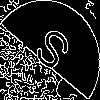S: (25, 25, 74, 82)
